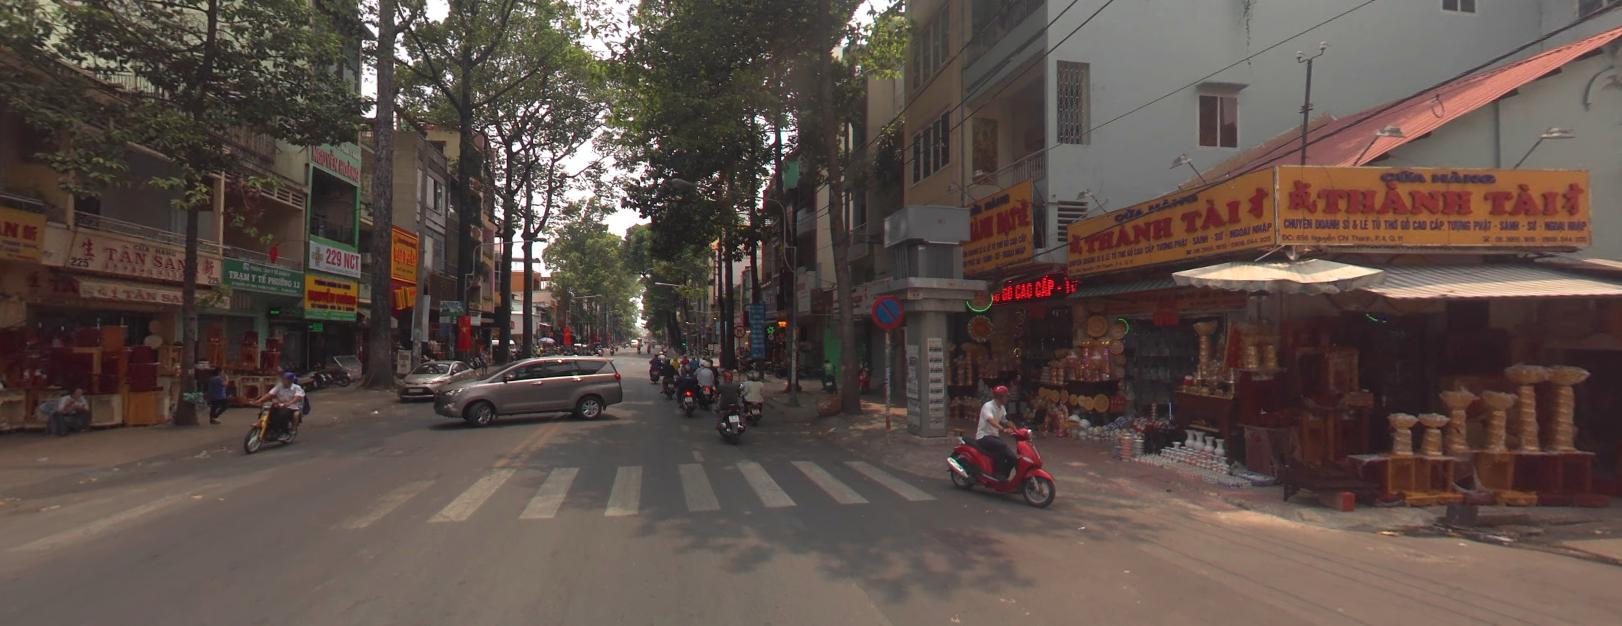Cam dung va do: (872, 293, 902, 326)
Cam re: (733, 323, 745, 335)
